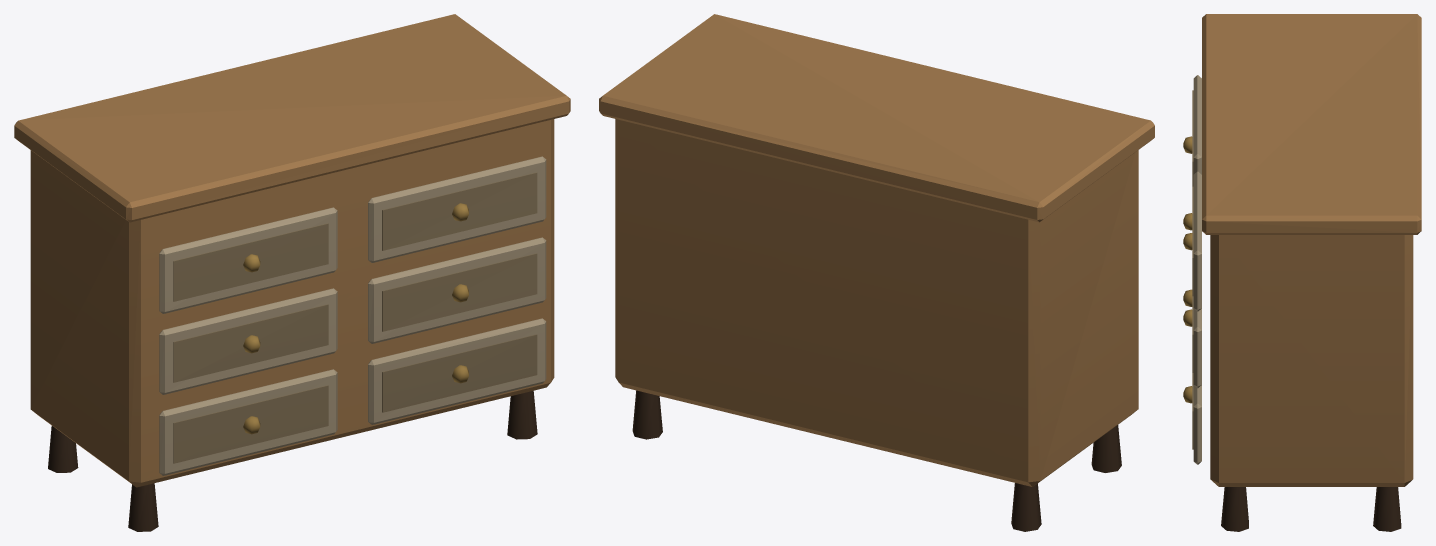
The model's file is dresser.glb.
3 views of the same model, side by side, from view 1: azimuth 30°, elevation 25°; view 2: azimuth 150°, elevation 25°; view 3: azimuth 270°, elevation 25° (orthographic). The views are drawn at different scales.
Visible parts, largest first — view 1: dresser; view 2: dresser; view 3: dresser.
Boxes of the visible parts, x1,y1,x2,y2 form: dresser: (14, 14, 570, 531); dresser: (599, 14, 1154, 531); dresser: (1183, 14, 1421, 531).
Bounding box in the file's own units: 1.15 × 0.845 × 0.5641.
